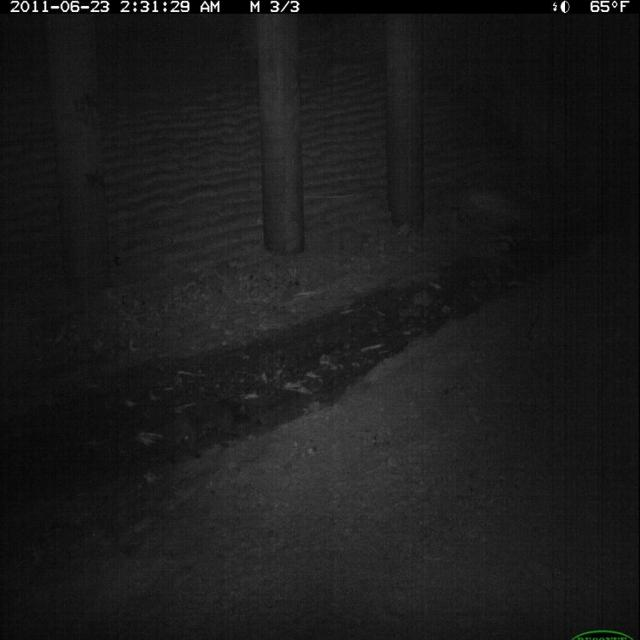cat: (158, 391, 252, 472)
